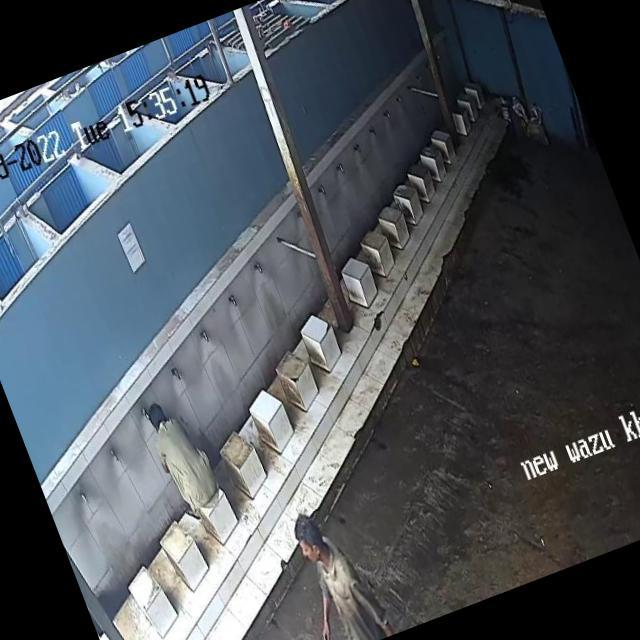person: (286, 496, 392, 640), (139, 394, 227, 514)
